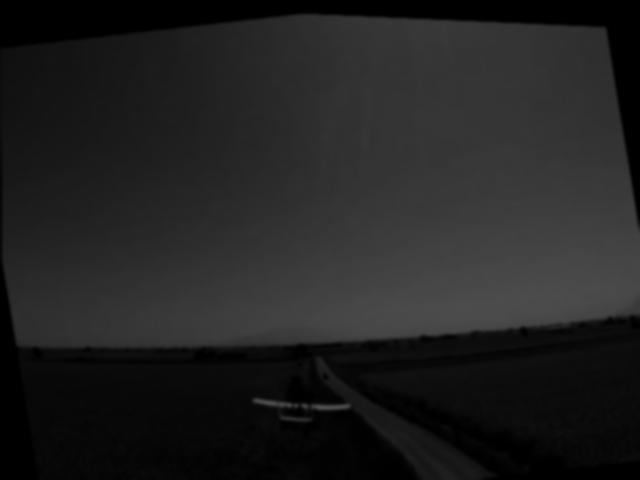hedef: (248, 372, 358, 449)
